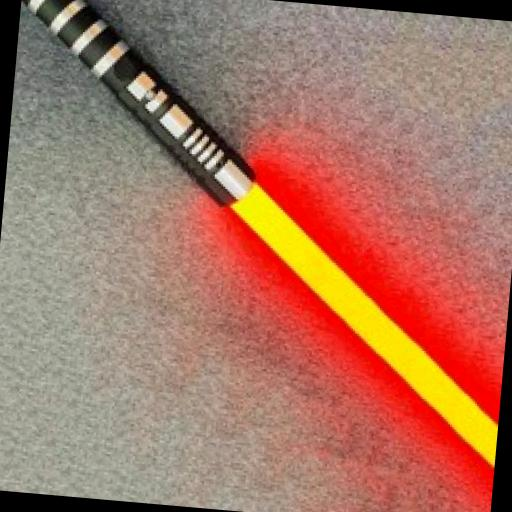sith saber: (0, 0, 512, 473)
